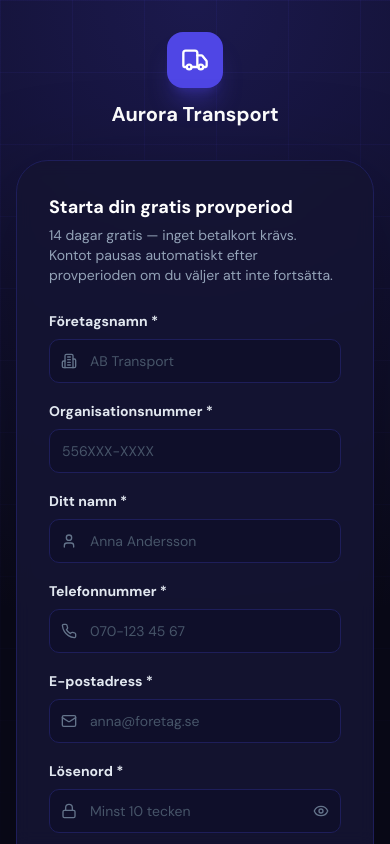
Test: company registration lifecycle › waits for email confirmation and never calls authenticated bootstrap without a session
The image size is (390, 844).
Later steps or results of the test are not shown.
In the field labelled "Företagsnamn *": x=195, y=361 x1=49 y1=339 x2=341 y2=383, type "Pilot Åkeri"
In the field labelled "Organisationsnummer *": x=195, y=451 x1=49 y1=429 x2=341 y2=473, type "556123-4567"
In the field labelled "Ditt namn *": x=195, y=541 x1=49 y1=519 x2=341 y2=563, type "Anna Test"
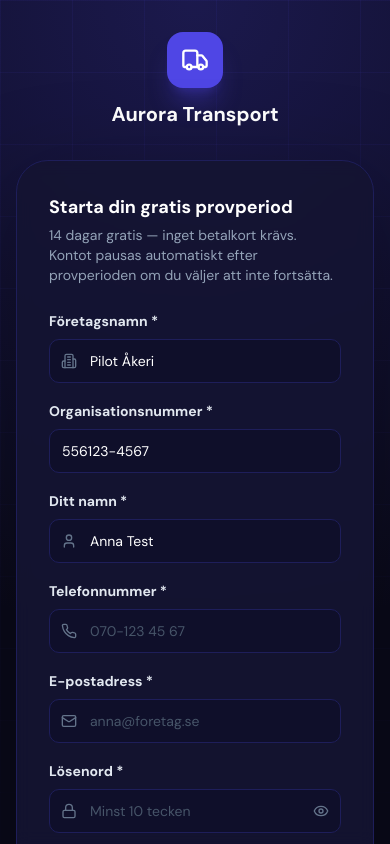
In the field labelled "Telefonnummer *": x=195, y=631 x1=49 y1=609 x2=341 y2=653, type "0701234567"
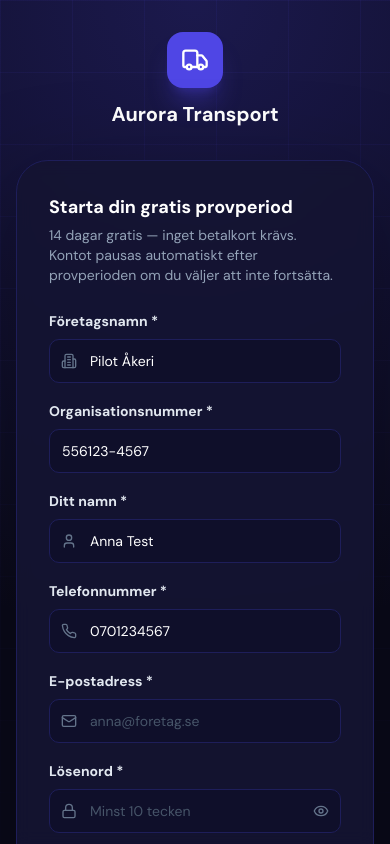
In the field labelled "E-postadress *": x=195, y=721 x1=49 y1=699 x2=341 y2=743, type "anna@example.com"
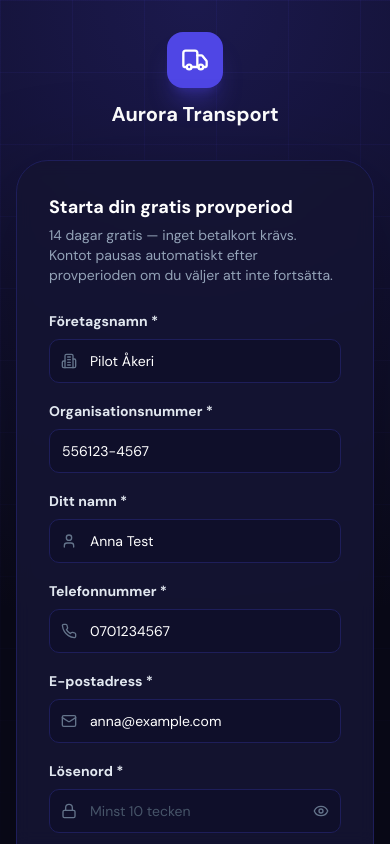
In the password field labelled "Lösenord *": x=195, y=811 x1=49 y1=789 x2=341 y2=833, type "TestPassword123"
(page scrolled)
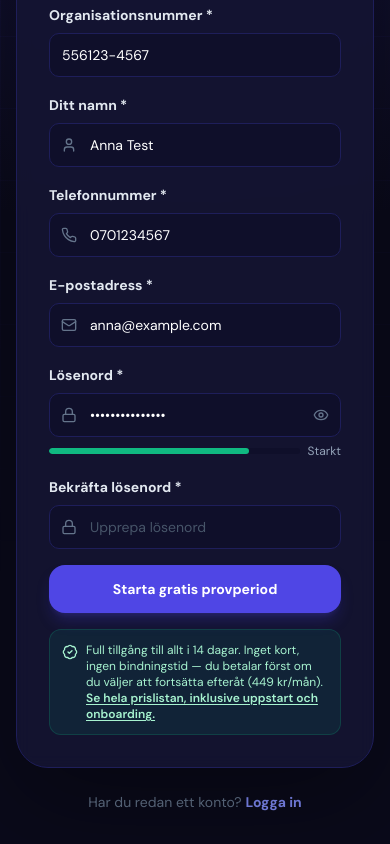
In the password field labelled "Bekräfta lösenord *": x=195, y=527 x1=49 y1=505 x2=341 y2=549, type "TestPassword123"
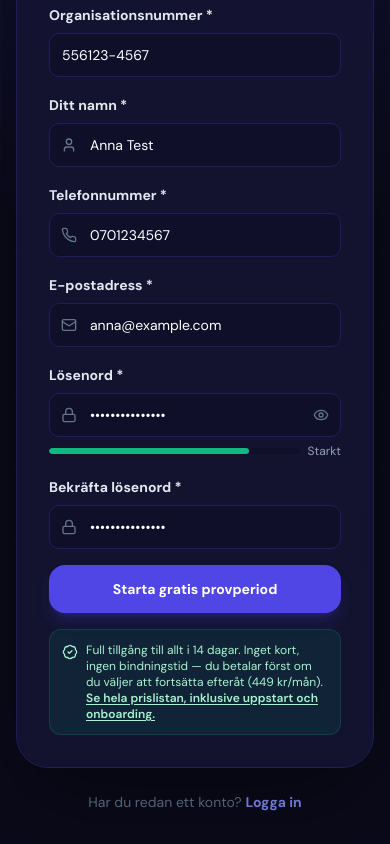
Click the button "Starta gratis provperiod": x=195, y=589 x1=49 y1=565 x2=341 y2=613
(page scrolled)
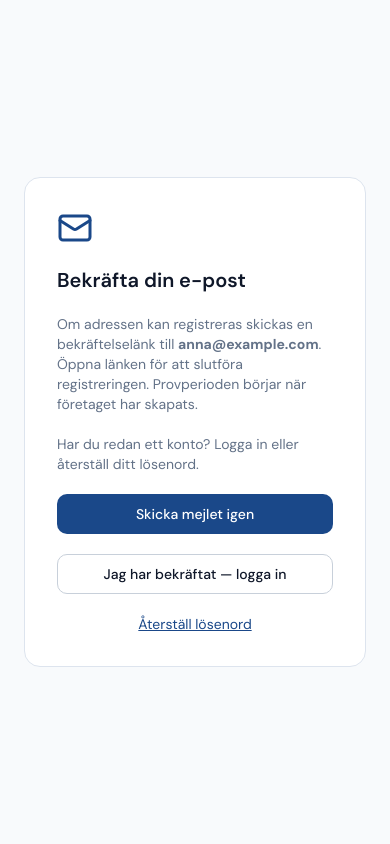
Check: the heading "Bekräfta din e-post" is shown, box x1=57 y1=267 x2=246 y2=293
